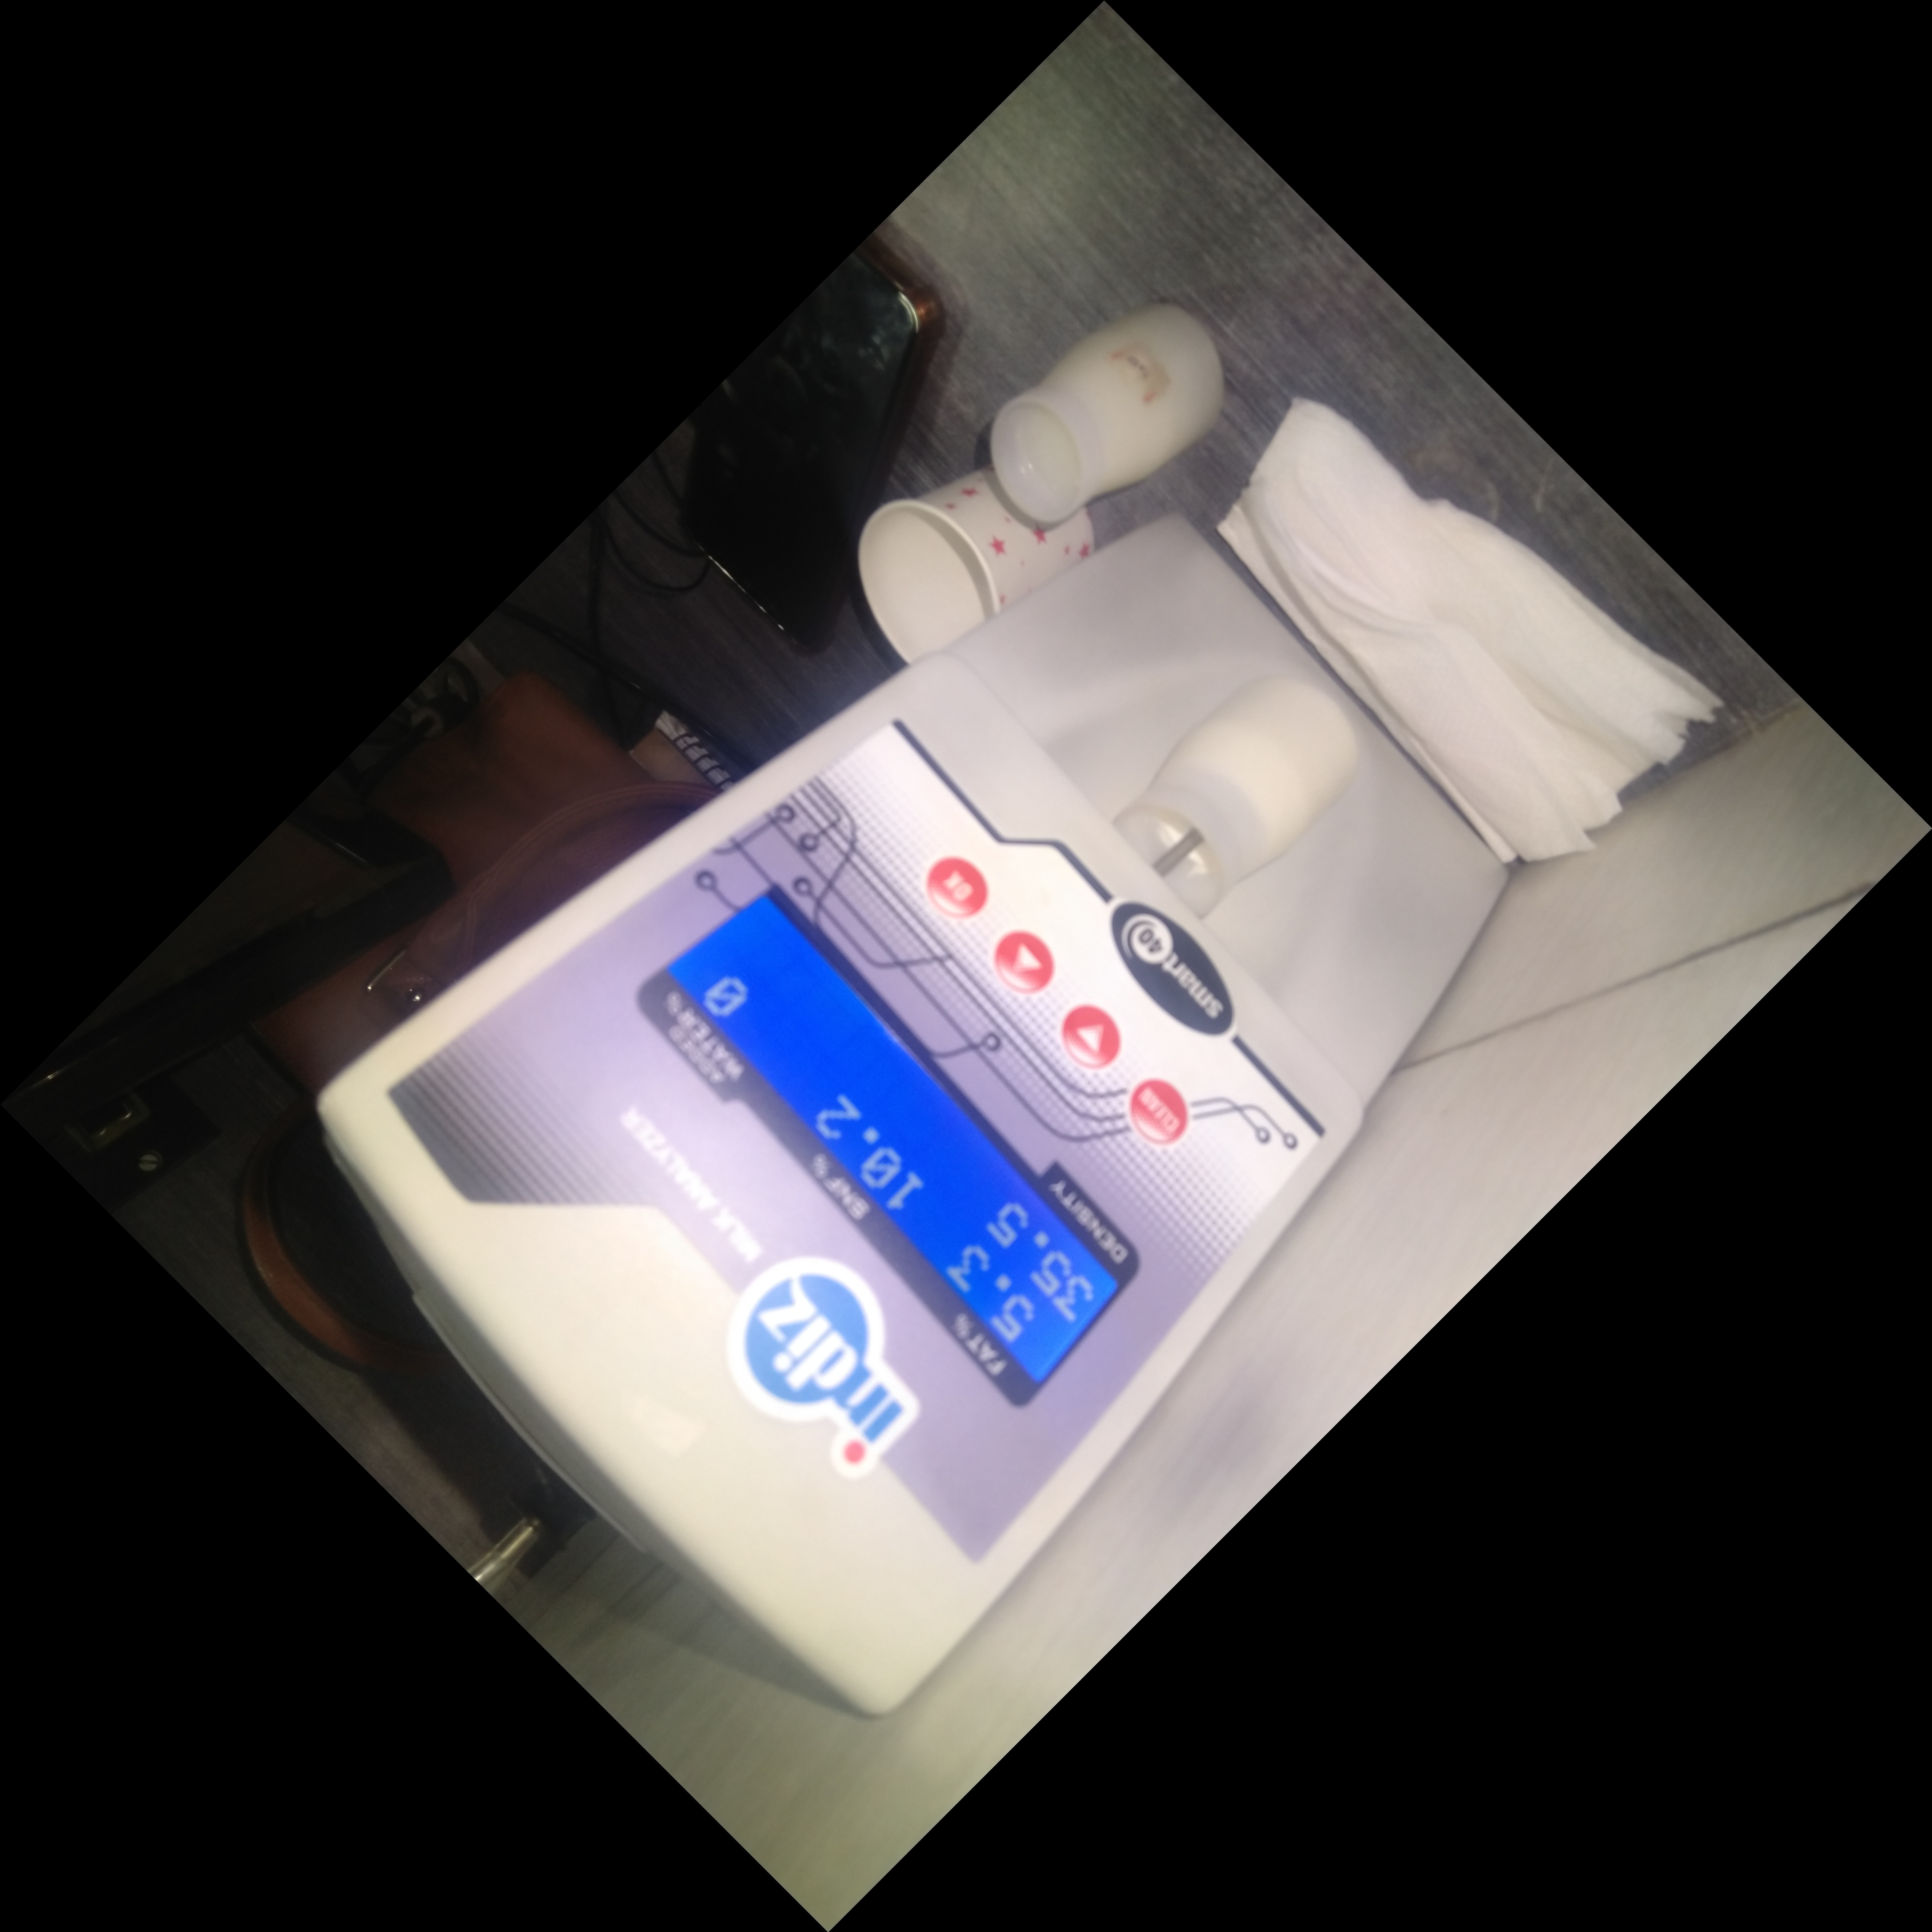lcd: (637, 883, 1146, 1422)
